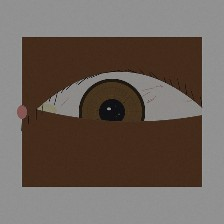pinguecula_lesion: (23, 93, 68, 129)
